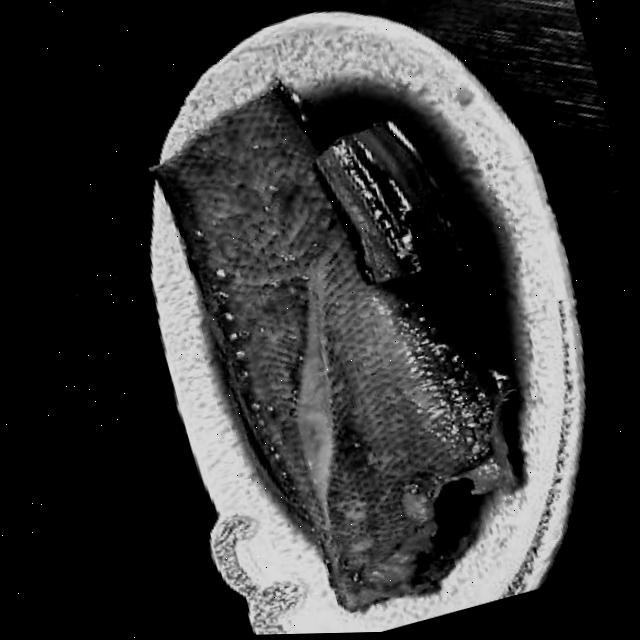熟制海鲜: (92, 15, 621, 638)
